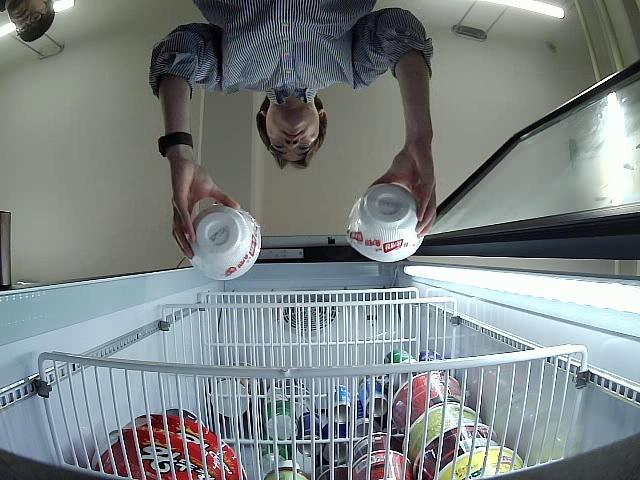00_hand: (171, 164, 240, 262), (370, 149, 437, 237)
09_yukGaeJang: (347, 184, 423, 264), (183, 206, 261, 279)
